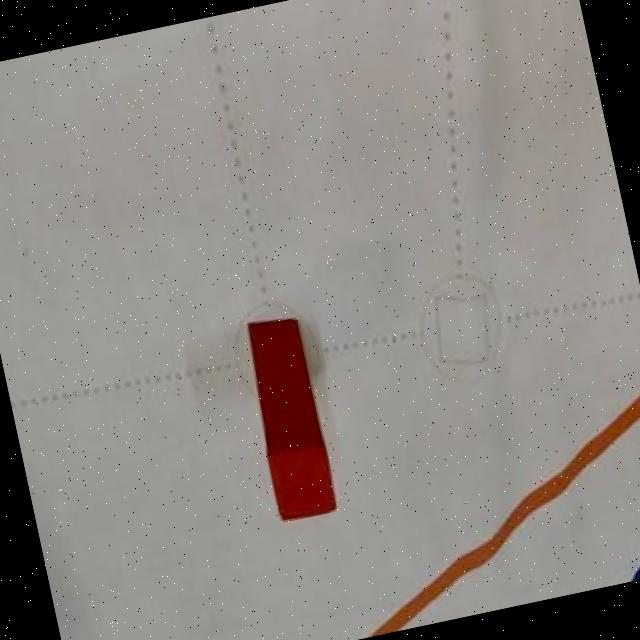redbox: (236, 313, 342, 530)
